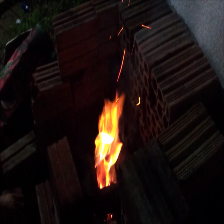fire_h: (95, 93, 125, 188)
fire_l: (117, 48, 126, 82), (135, 95, 141, 106), (142, 23, 151, 30), (117, 26, 124, 35), (107, 213, 112, 219)
